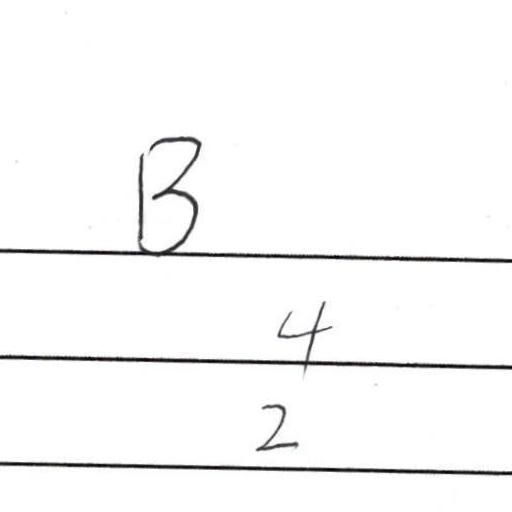ans: (126, 128, 204, 257), (269, 295, 333, 373), (248, 395, 298, 452)
